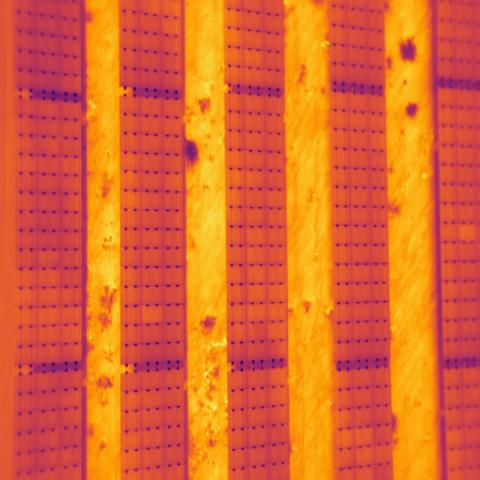fault: (140, 304, 164, 326), (458, 222, 478, 244)
